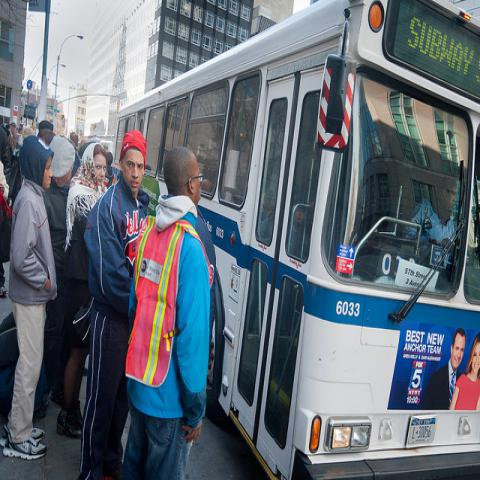bus: (113, 0, 479, 473)
